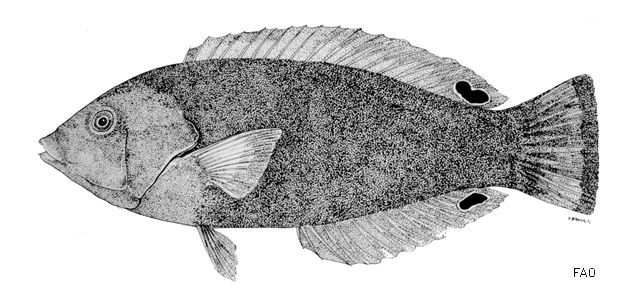fish: (38, 25, 602, 279)
